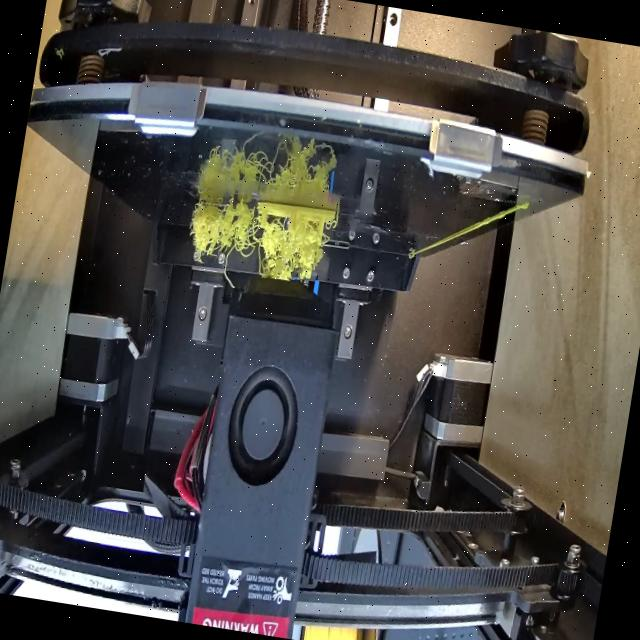spaghetti: (181, 196, 334, 302)
